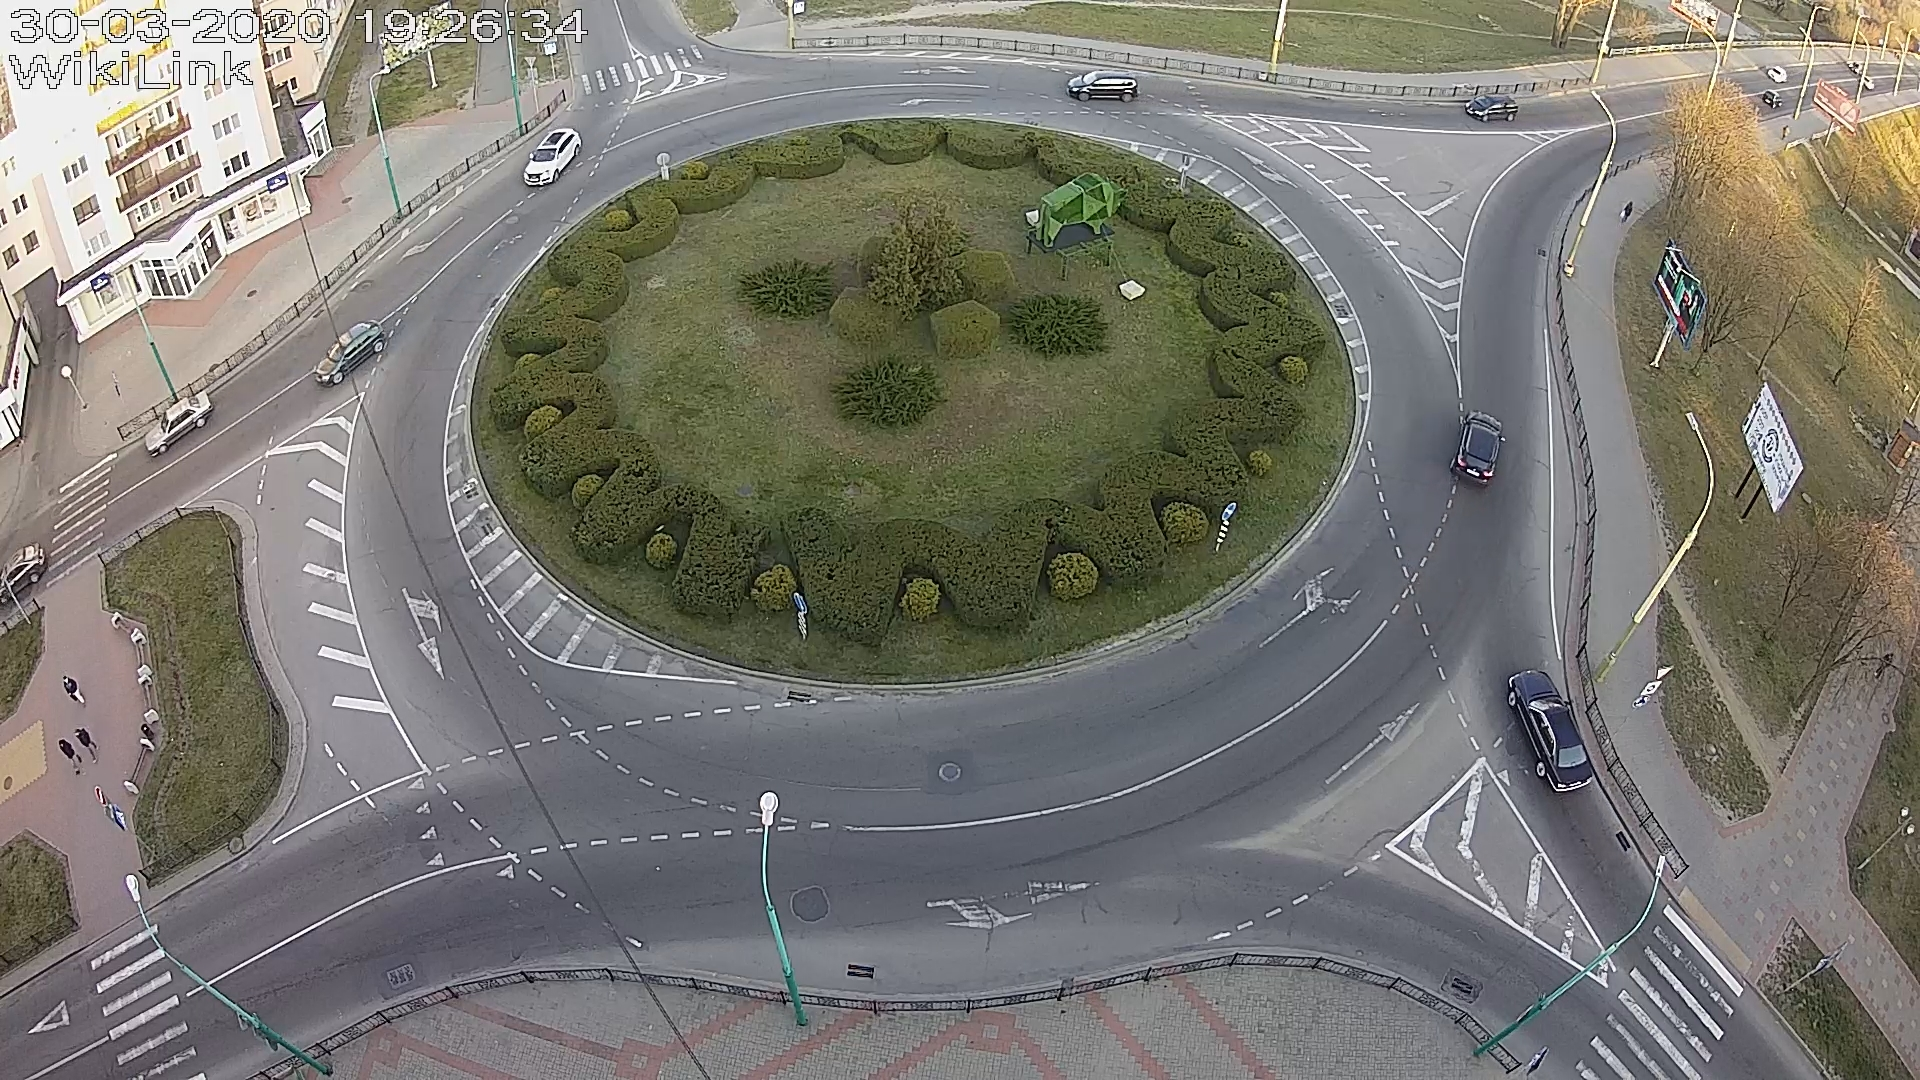car: (1507, 669, 1593, 794), (144, 390, 215, 458), (315, 319, 386, 386), (1449, 410, 1507, 487), (524, 128, 582, 187), (1065, 70, 1139, 103), (1464, 94, 1519, 123)
